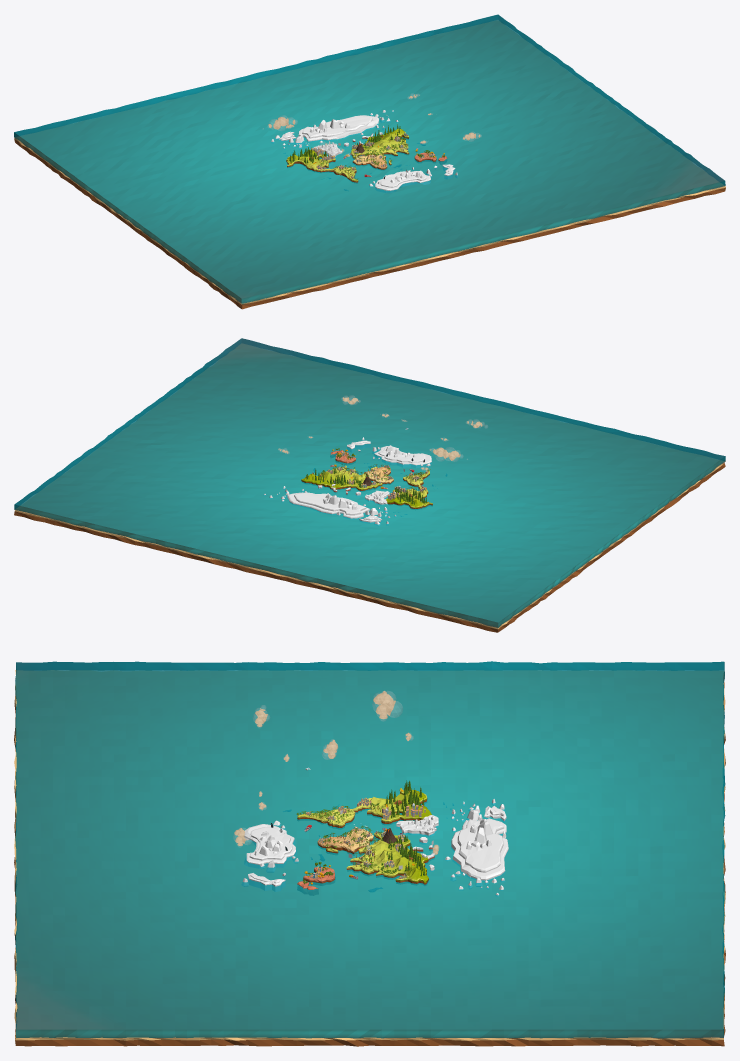
Rendered from island.glb.
3 renders of one model, top to bottom at view 1: azimuth 30°, elevation 25°; view 2: azimuth 150°, elevation 25°; view 3: azimuth 270°, elevation 25°, orthographic. The views are drawn at different scales.
Parts seen in each view (by area): view 1: Water_2, Ground_4, Ground_2, Planet_2, Planet_3, Trees_3; view 2: Water_2, Ground_4, Ground_2, Planet_2, Trees_3, Planet_3, Planet_4, Clouds_2; view 3: Water_2, Ground_4, Ground_2, Planet_2, Planet_3, Trees_3, Planet_4, Clouds_2, Planet_1, Clouds_1.
Part boxes in pixels (bbox=[...]): Water_2: bbox=[14, 14, 725, 303]; Ground_4: bbox=[14, 21, 725, 309]; Ground_2: bbox=[286, 128, 447, 182]; Planet_2: bbox=[283, 115, 372, 138]; Planet_3: bbox=[279, 115, 379, 141]; Trees_3: bbox=[289, 124, 400, 163]; Water_2: bbox=[14, 338, 725, 627]; Ground_4: bbox=[14, 344, 725, 632]; Ground_2: bbox=[301, 450, 432, 509]; Planet_2: bbox=[294, 493, 378, 520]; Trees_3: bbox=[306, 468, 426, 504]; Planet_3: bbox=[287, 492, 382, 523]; Planet_4: bbox=[347, 441, 431, 467]; Clouds_2: bbox=[380, 413, 487, 461]; Water_2: bbox=[15, 661, 725, 1038]; Ground_4: bbox=[14, 670, 725, 1046]; Ground_2: bbox=[297, 788, 438, 895]; Planet_2: bbox=[457, 806, 503, 872]; Planet_3: bbox=[451, 805, 508, 881]; Trees_3: bbox=[381, 780, 425, 876]; Planet_4: bbox=[244, 824, 296, 891]; Clouds_2: bbox=[253, 691, 402, 810]; Planet_1: bbox=[249, 827, 292, 883]; Clouds_1: bbox=[233, 733, 439, 854].
Bounding box in the file's own units: 98.11 × 13 × 80.08.
Materials: 5 (3 with a texture image).
